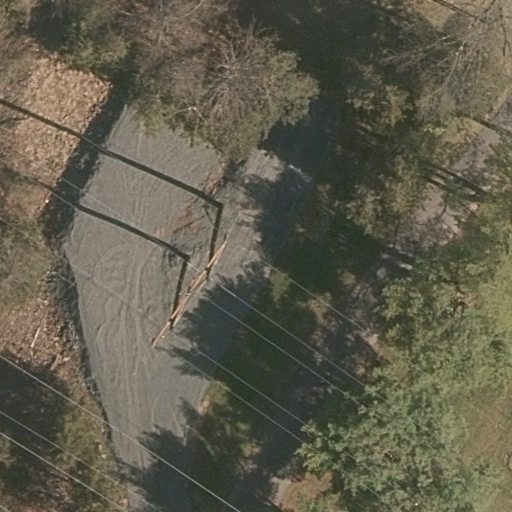DT: (140, 199, 238, 354)
